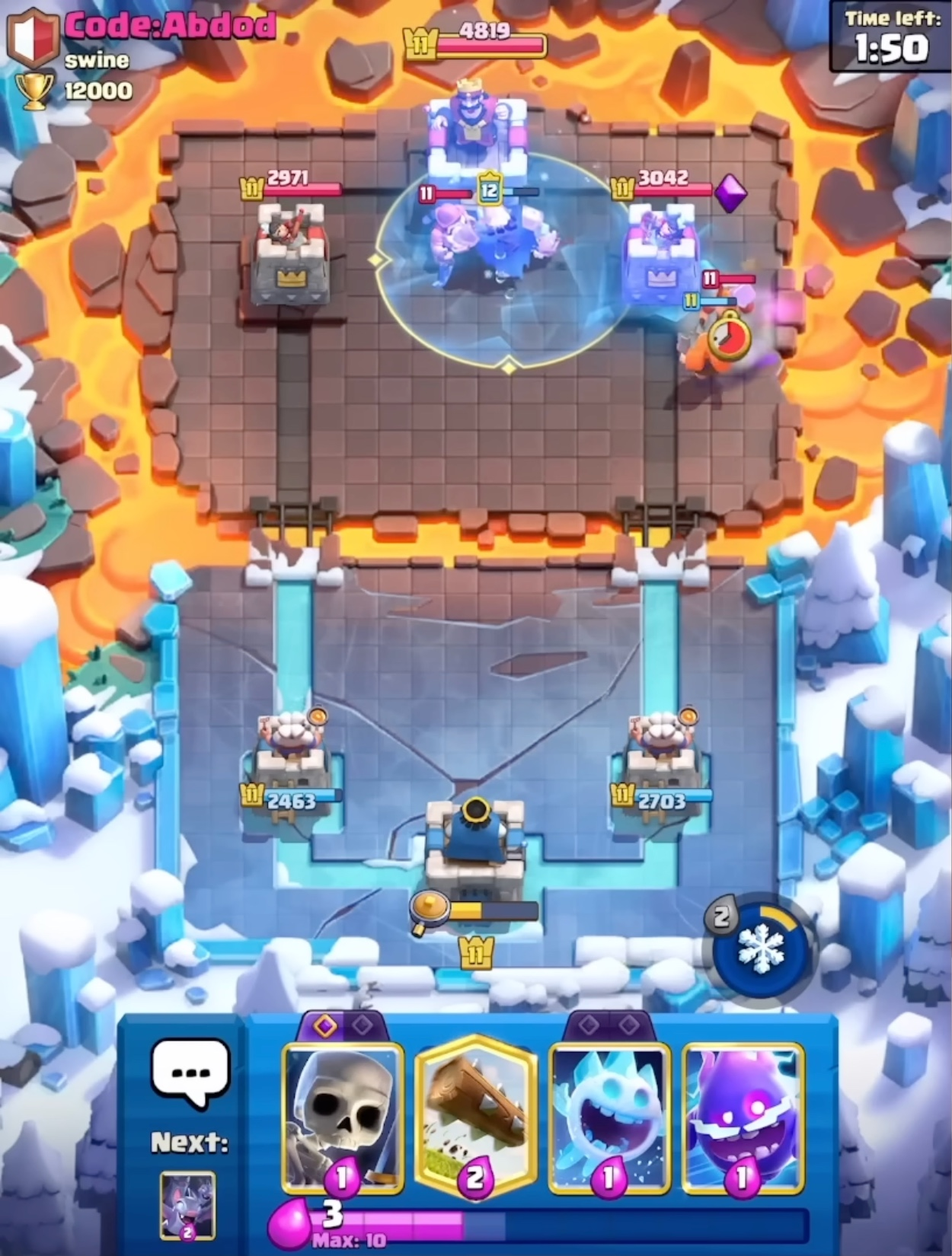hero-ice-golem: (462, 171, 563, 284)
